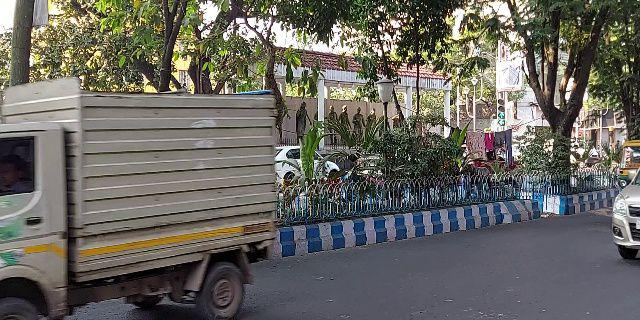Car: (611, 152, 640, 266)
Minitruck: (1, 76, 284, 317)
